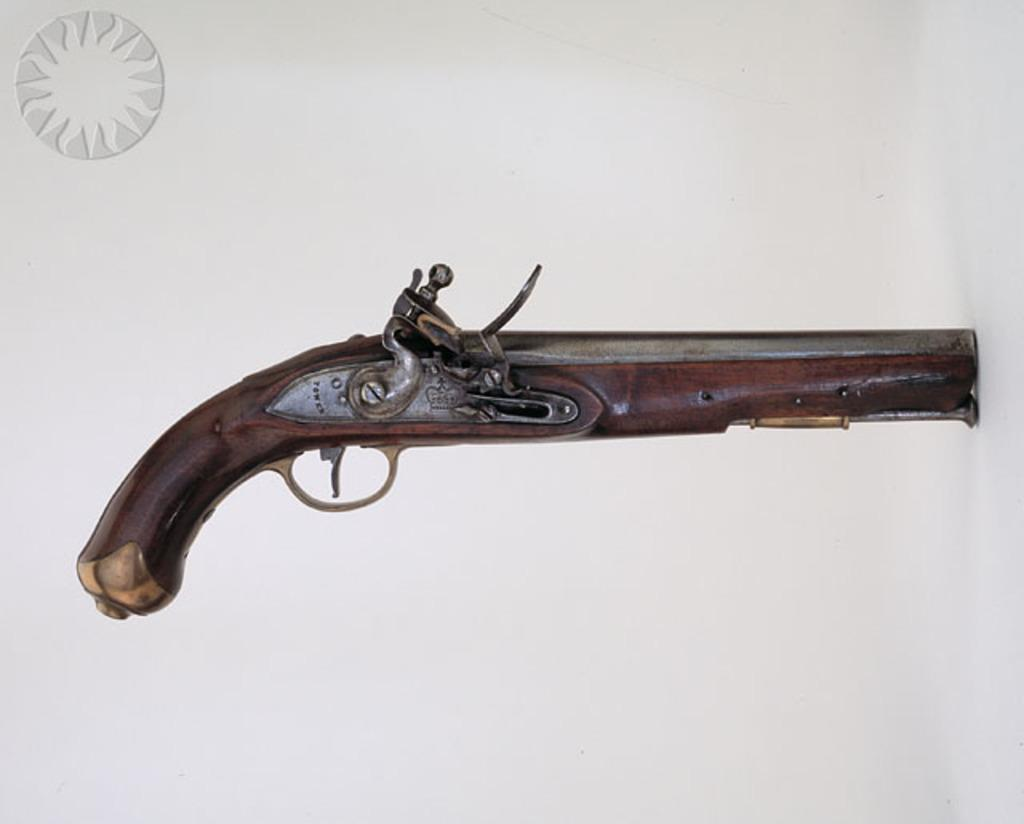Shotgun: (66, 272, 998, 629)
